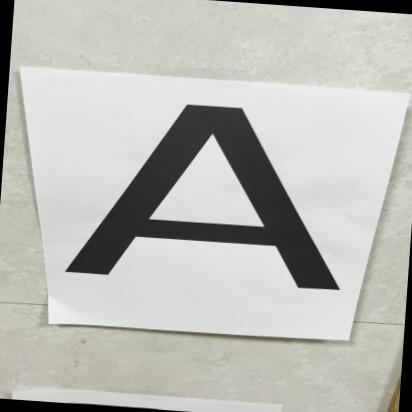seat: (50, 86, 372, 306)
